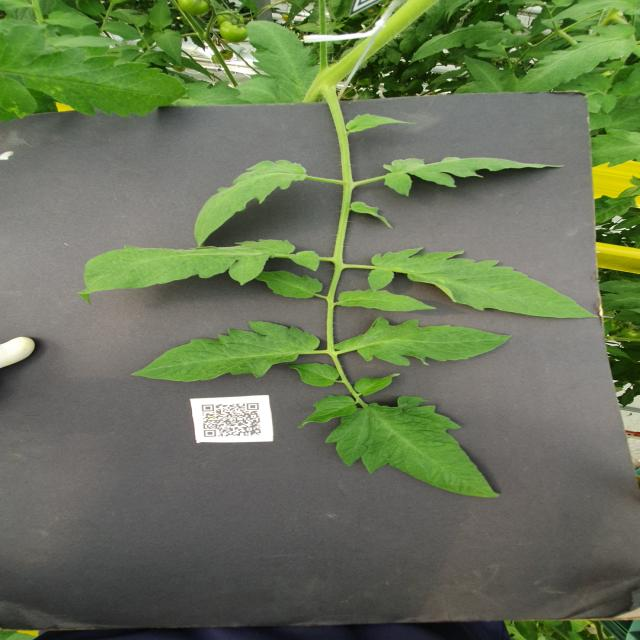Healthy Leaf: (324, 396, 502, 500), (368, 248, 601, 321), (78, 240, 322, 307), (132, 322, 323, 384), (194, 160, 309, 249), (335, 317, 515, 368), (514, 24, 638, 93), (383, 158, 567, 198), (246, 21, 321, 103), (408, 22, 534, 66), (339, 289, 438, 313), (464, 56, 518, 95), (298, 395, 358, 430), (255, 270, 324, 300), (590, 130, 640, 169), (345, 114, 420, 134), (287, 362, 341, 388), (356, 373, 404, 398), (152, 30, 185, 66), (45, 11, 102, 30), (104, 21, 143, 42), (148, 1, 173, 29)
